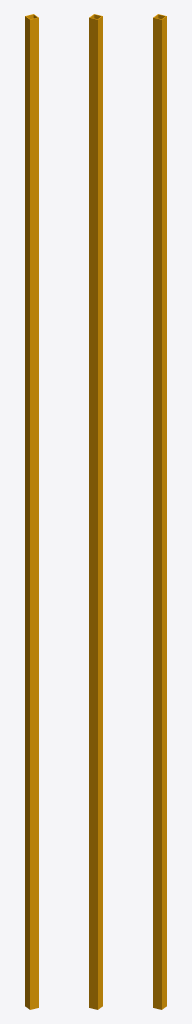
3 views of the same model, side by side, from view 1: azimuth 30°, elevation 25°; view 2: azimuth 150°, elevation 25°; view 3: azimuth 330°, elevation 25° (orthographic).
Parts seen in each view (by area): view 1: Body; view 2: Body; view 3: Body.
Boxes of the visible parts, <box> form: Body: <box>25,14,38,1009</box>; Body: <box>89,14,102,1009</box>; Body: <box>153,14,166,1009</box>.
Size of the model in its own units: 1 by 108 by 1.
